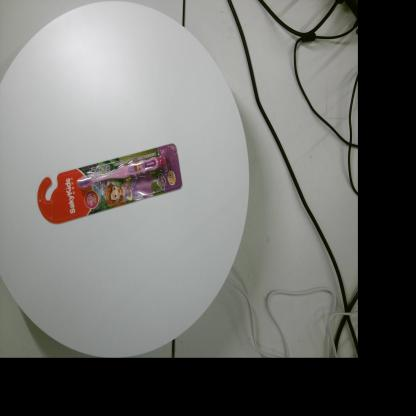Personal Hygiene: (37, 144, 182, 224)
